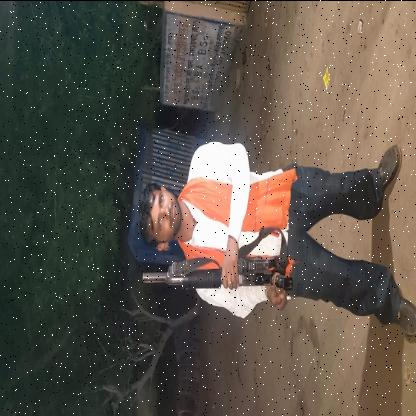rifle: (140, 252, 294, 292)
